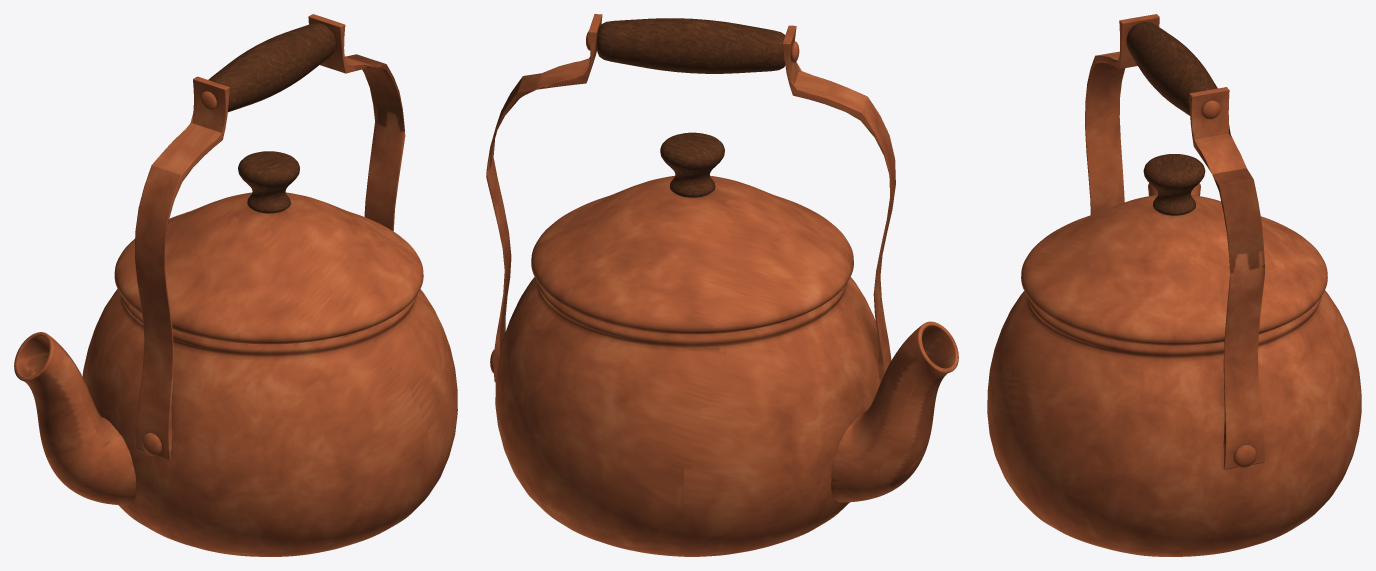
The model's file is ceret.glb.
3 renders of one model, left to right at view 1: azimuth 30°, elevation 25°; view 2: azimuth 150°, elevation 25°; view 3: azimuth 270°, elevation 25°, orthographic. The views are drawn at different scales.
Visible parts, largest first — view 1: Ceret_Copper, Ceret_Wood; view 2: Ceret_Copper, Ceret_Wood; view 3: Ceret_Copper, Ceret_Wood.
Boxes of the visible parts, x1,y1,x2,y2 form: Ceret_Copper: (14,14,457,556); Ceret_Wood: (208,23,335,213); Ceret_Copper: (486,14,958,556); Ceret_Wood: (596,18,785,197); Ceret_Copper: (987,14,1361,556); Ceret_Wood: (1126,22,1217,215).
Size of the model in its own units: 3.16 by 3.39 by 2.49.
2 materials, 2 textured.
